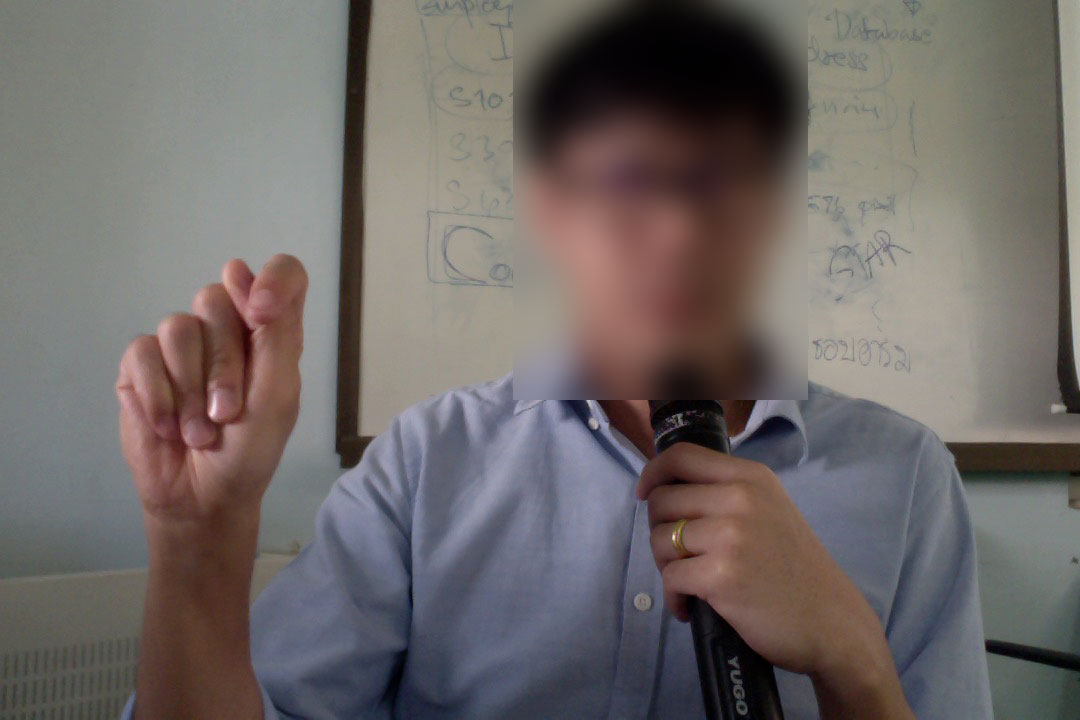tor: (107, 239, 322, 537)
